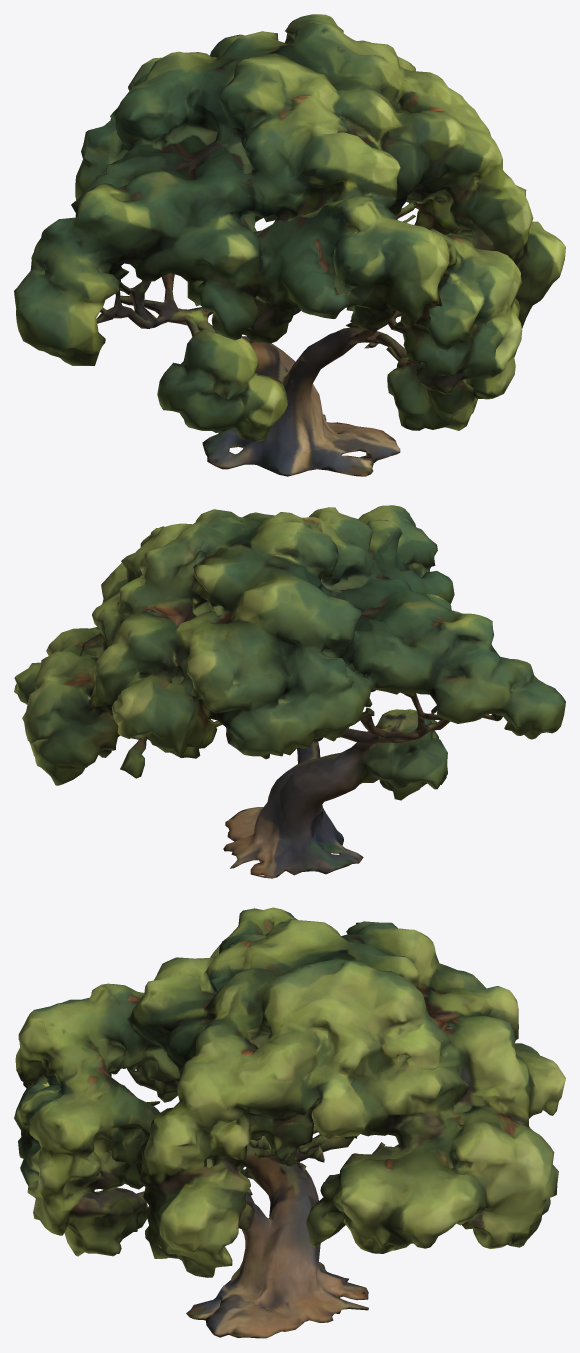
File: AI_MaturePecanTree.fbx
3 renders of one model, top to bottom at view 1: azimuth 30°, elevation 25°; view 2: azimuth 150°, elevation 25°; view 3: azimuth 270°, elevation 25°, orthographic. The views are drawn at different scales.
Parts seen in each view (by area): view 1: Mesh_0; view 2: Mesh_0; view 3: Mesh_0.
Boxes of the visible parts, x1,y1,x2,y2 form: Mesh_0: (14,14,565,476); Mesh_0: (14,505,565,878); Mesh_0: (14,907,565,1338).
Bounding box in the file's own units: 199 × 139 × 187.
Materials: 1 (1 with a texture image).
